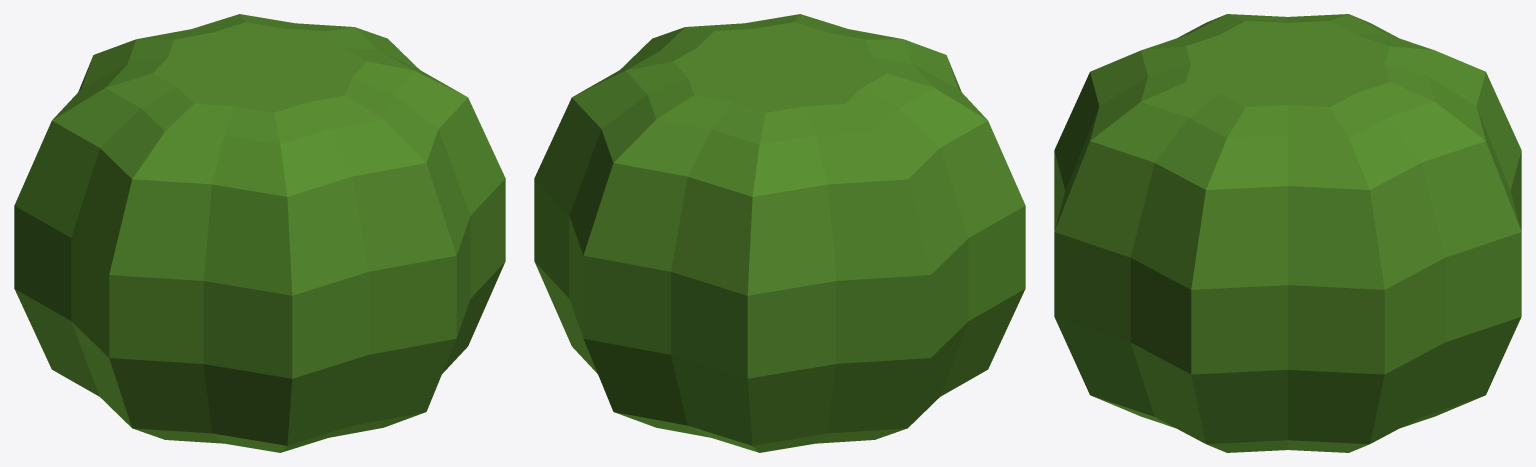
Rendered from Hilly_Prop_Bush_2.obj.
3 renders of one model, left to right at view 1: azimuth 30°, elevation 25°; view 2: azimuth 150°, elevation 25°; view 3: azimuth 270°, elevation 25°, orthographic. The views are drawn at different scales.
Visible parts, largest first — view 1: object1; view 2: object1; view 3: object1.
Boxes of the visible parts, x1,y1,x2,y2 form: object1: [14, 14, 505, 452]; object1: [534, 14, 1025, 452]; object1: [1054, 14, 1521, 452].
Bounding box in the file's own units: 0.9372 × 0.75 × 0.9372.
